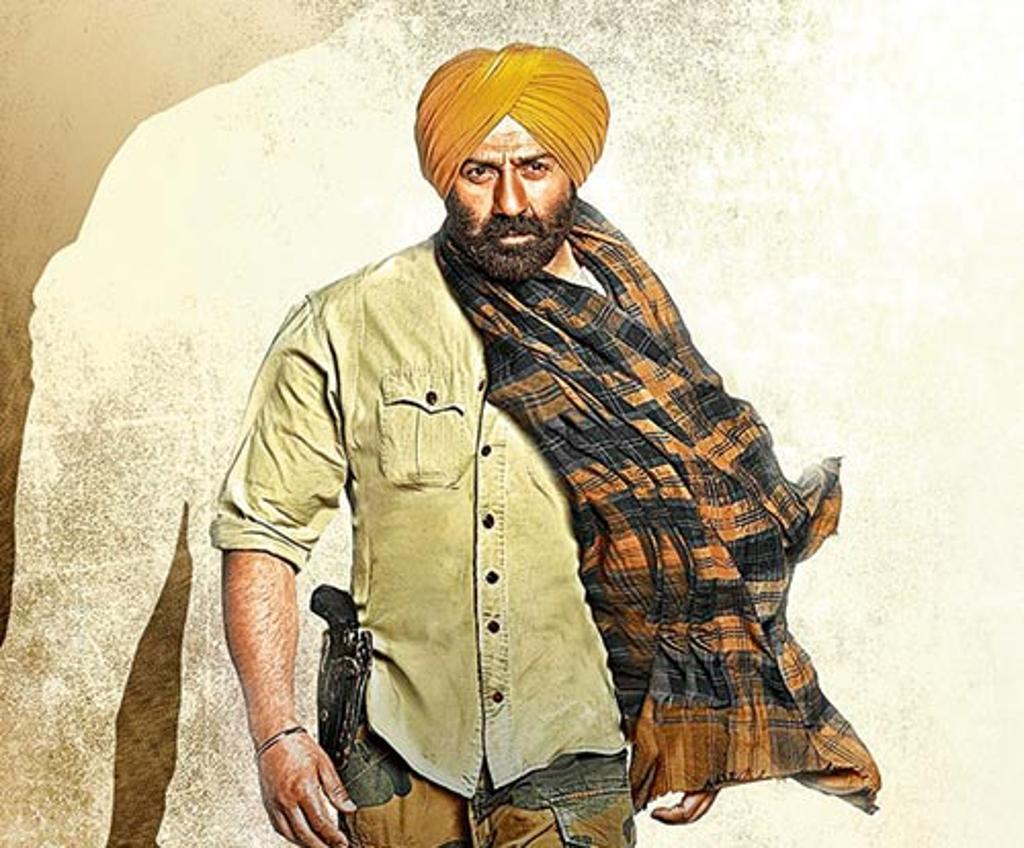face: (456, 102, 570, 270)
